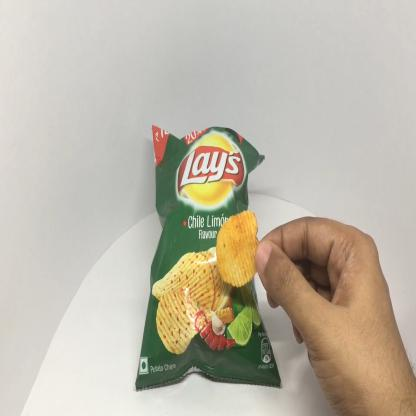chile_limon: (136, 119, 282, 390)
